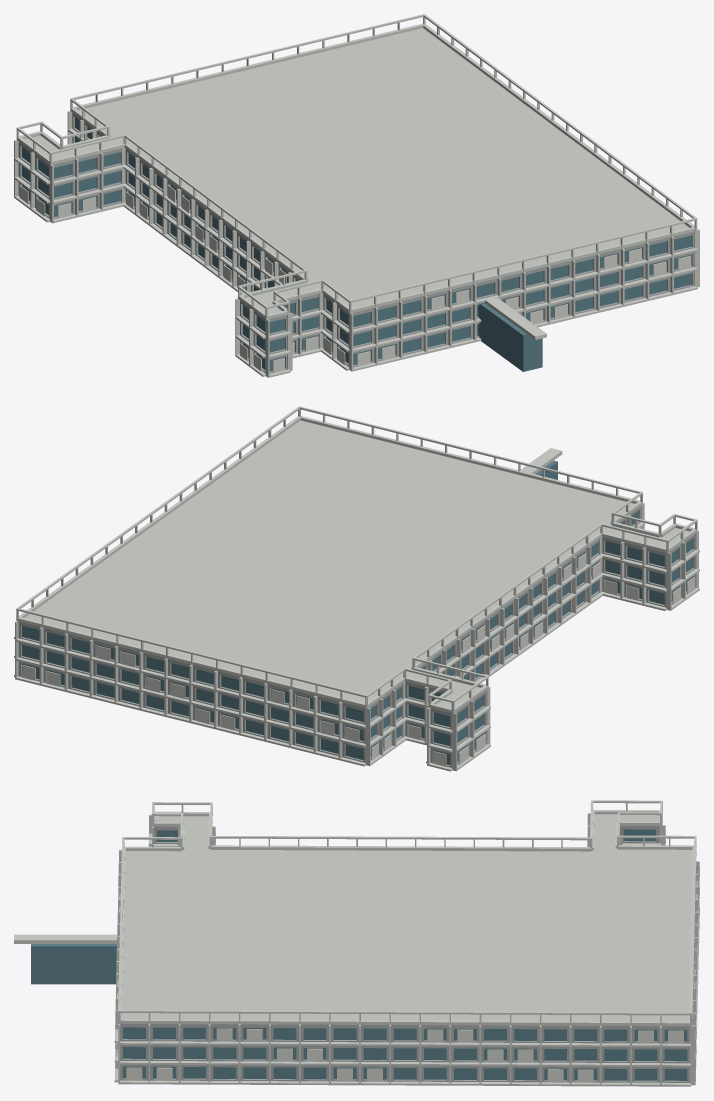
Rendered from canteen2.far.glb.
3 views of the same model, one above another, from view 1: azimuth 30°, elevation 25°; view 2: azimuth 150°, elevation 25°; view 3: azimuth 270°, elevation 25° (orthographic). The views are drawn at different scales.
Visible parts, largest first — view 1: roof, trim, glass, wall, screen; view 2: roof, trim, glass, wall, screen; view 3: roof, trim, glass, wall, screen.
Boxes of the visible parts, box(x1,y1,x2,y2) form: roof: box(24, 28, 689, 314); trim: box(14, 14, 699, 377); glass: box(22, 117, 691, 371); wall: box(18, 112, 694, 373); screen: box(19, 185, 691, 372); roof: box(24, 420, 689, 708); trim: box(14, 406, 699, 771); glass: box(22, 460, 692, 765); wall: box(18, 506, 695, 767); screen: box(22, 553, 695, 766); roof: box(122, 814, 692, 1021); trim: box(14, 800, 699, 1086); glass: box(31, 829, 687, 1080); wall: box(120, 826, 689, 1082); screen: box(116, 881, 697, 1082).
Bounding box in the file's own units: 66.07 × 10.3 × 88.58.
